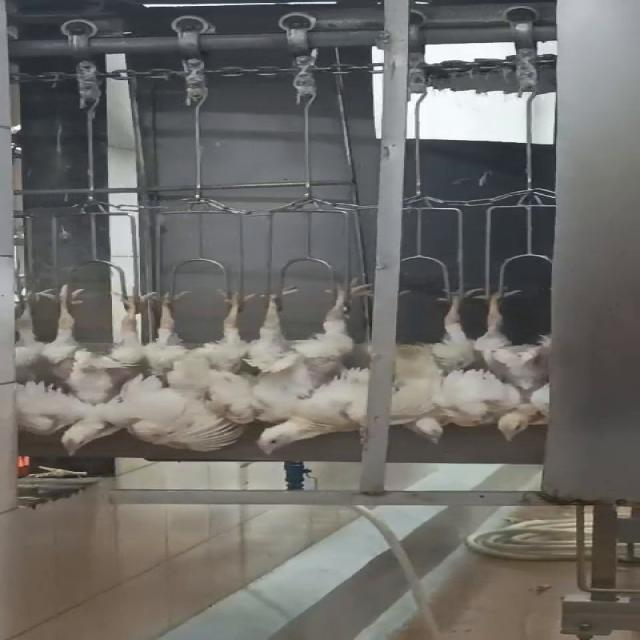chicken: (228, 268, 384, 456), (132, 284, 266, 452), (20, 278, 142, 457), (466, 280, 565, 445), (384, 282, 469, 448)
